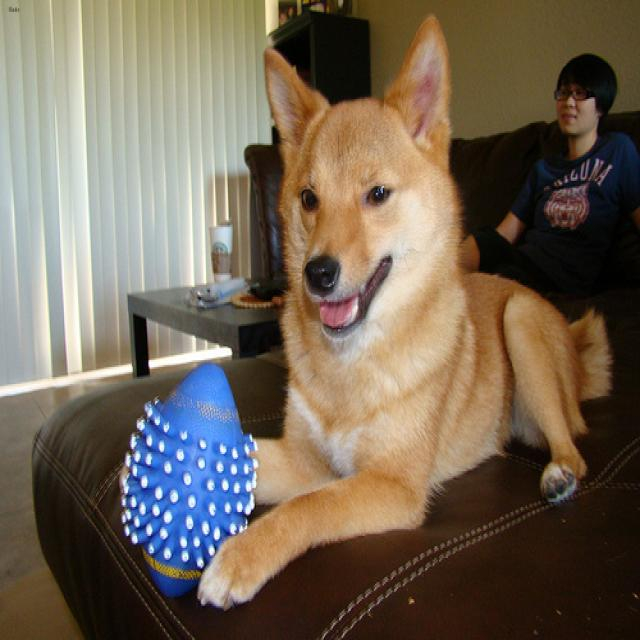dog-shiba_inu: (188, 2, 623, 616)
